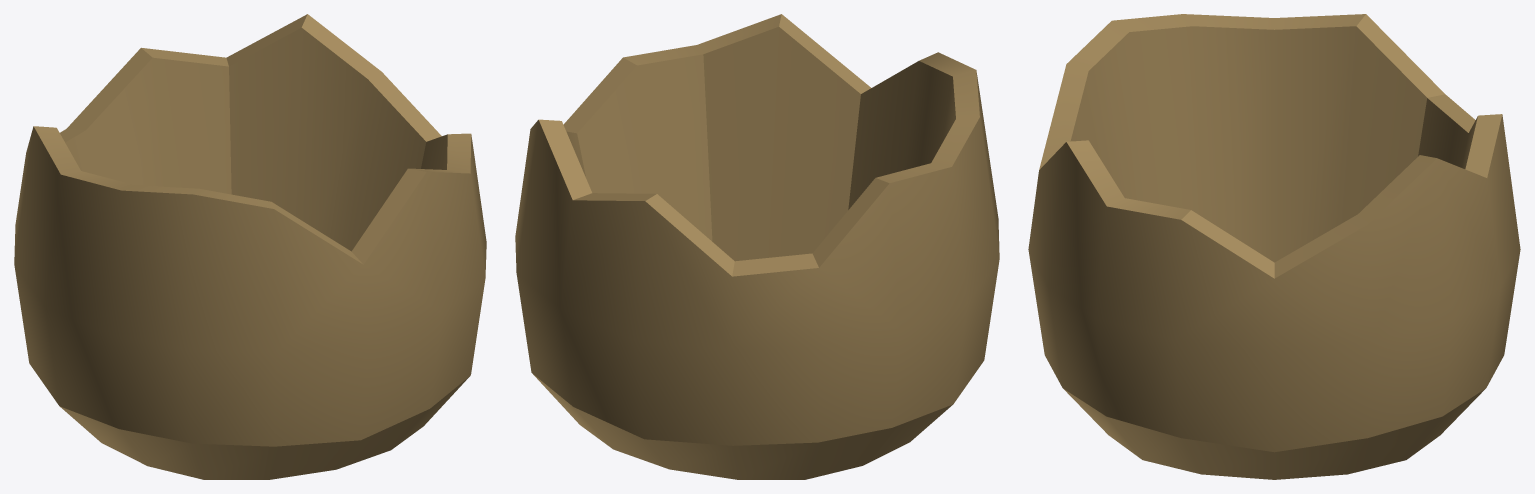
File: Pot3_Broken.glb
The picture shows the model from 3 angles, left to right: view 1: azimuth 30°, elevation 25°; view 2: azimuth 150°, elevation 25°; view 3: azimuth 270°, elevation 25°; orthographic projection. The views are drawn at different scales.
Visible parts, largest first — view 1: Pot3_Broken; view 2: Pot3_Broken; view 3: Pot3_Broken.
Part boxes in pixels (box(x1,y1,x2,y2)): Pot3_Broken: box(14, 14, 486, 479); Pot3_Broken: box(515, 14, 999, 479); Pot3_Broken: box(1028, 14, 1520, 479).
Size of the model in its own units: 0.4633 by 0.3271 by 0.4633.
